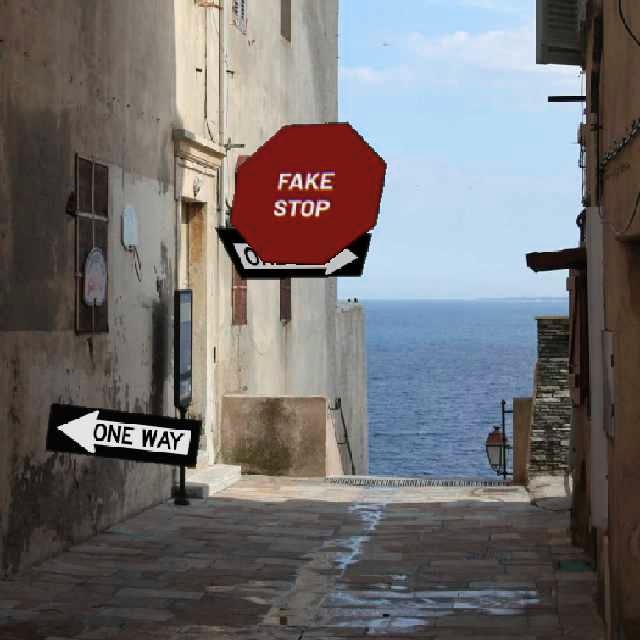FAKE_STOP: (228, 120, 386, 264)
ONE_WAY_ left: (43, 401, 201, 467)
ONE_WAY_ right: (213, 226, 371, 278)
